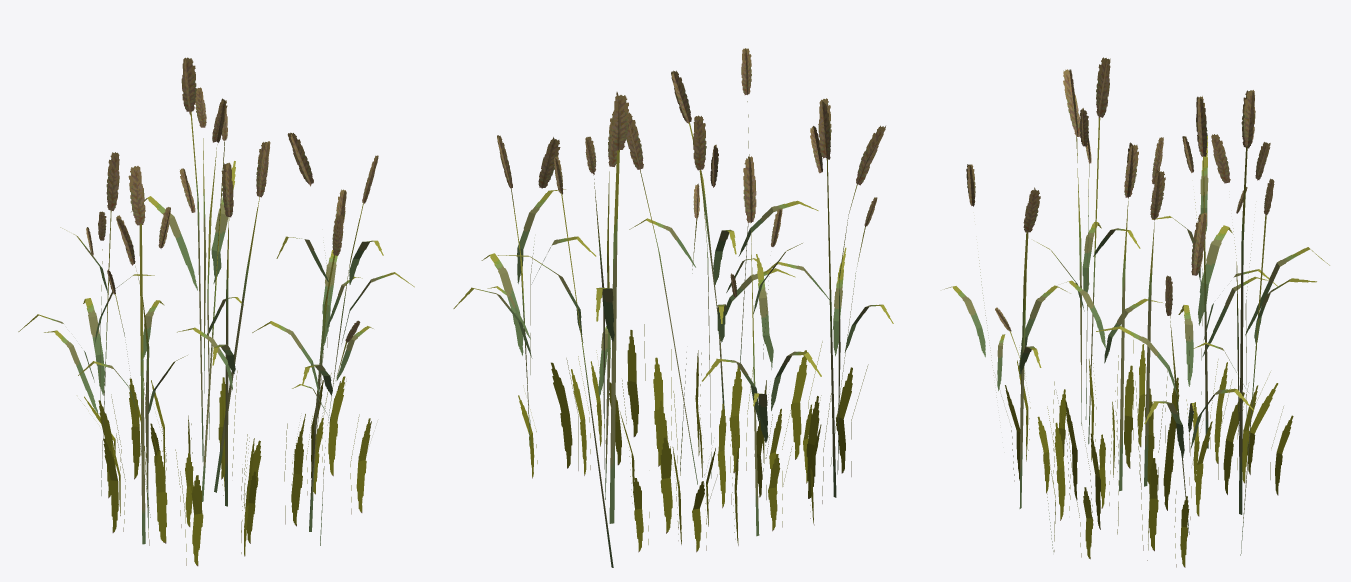
File: gi-Wheat01.glb
3 views of the same model, side by side, from view 1: azimuth 30°, elevation 25°; view 2: azimuth 150°, elevation 25°; view 3: azimuth 270°, elevation 25° (orthographic). The views are drawn at different scales.
Visible parts, largest first — view 1: gi-Wheat01; view 2: gi-Wheat01; view 3: gi-Wheat01.
Part boxes in pixels (x1,y1,x2,y2): gi-Wheat01: [18, 57, 414, 566]; gi-Wheat01: [453, 48, 893, 567]; gi-Wheat01: [944, 57, 1329, 567].
Size of the model in its own units: 1.2 by 1.51 by 1.1.
Materials: 1 (1 with a texture image).
